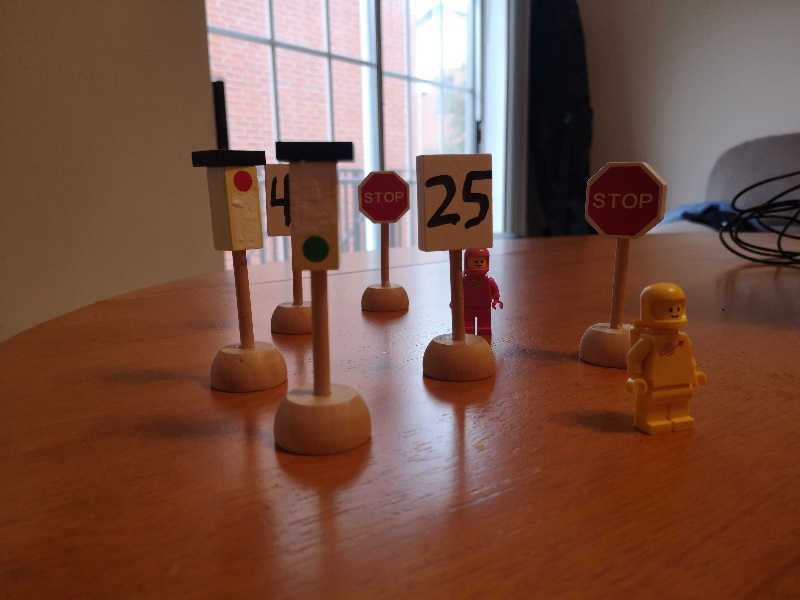Green Traffic Light: (276, 142, 356, 274)
Person: (624, 283, 708, 436), (461, 249, 505, 339)
Red Traffic Light: (187, 150, 267, 252)
Speed Limit 25: (416, 154, 495, 251)
Stop Sign: (579, 159, 667, 239), (358, 171, 410, 224)
